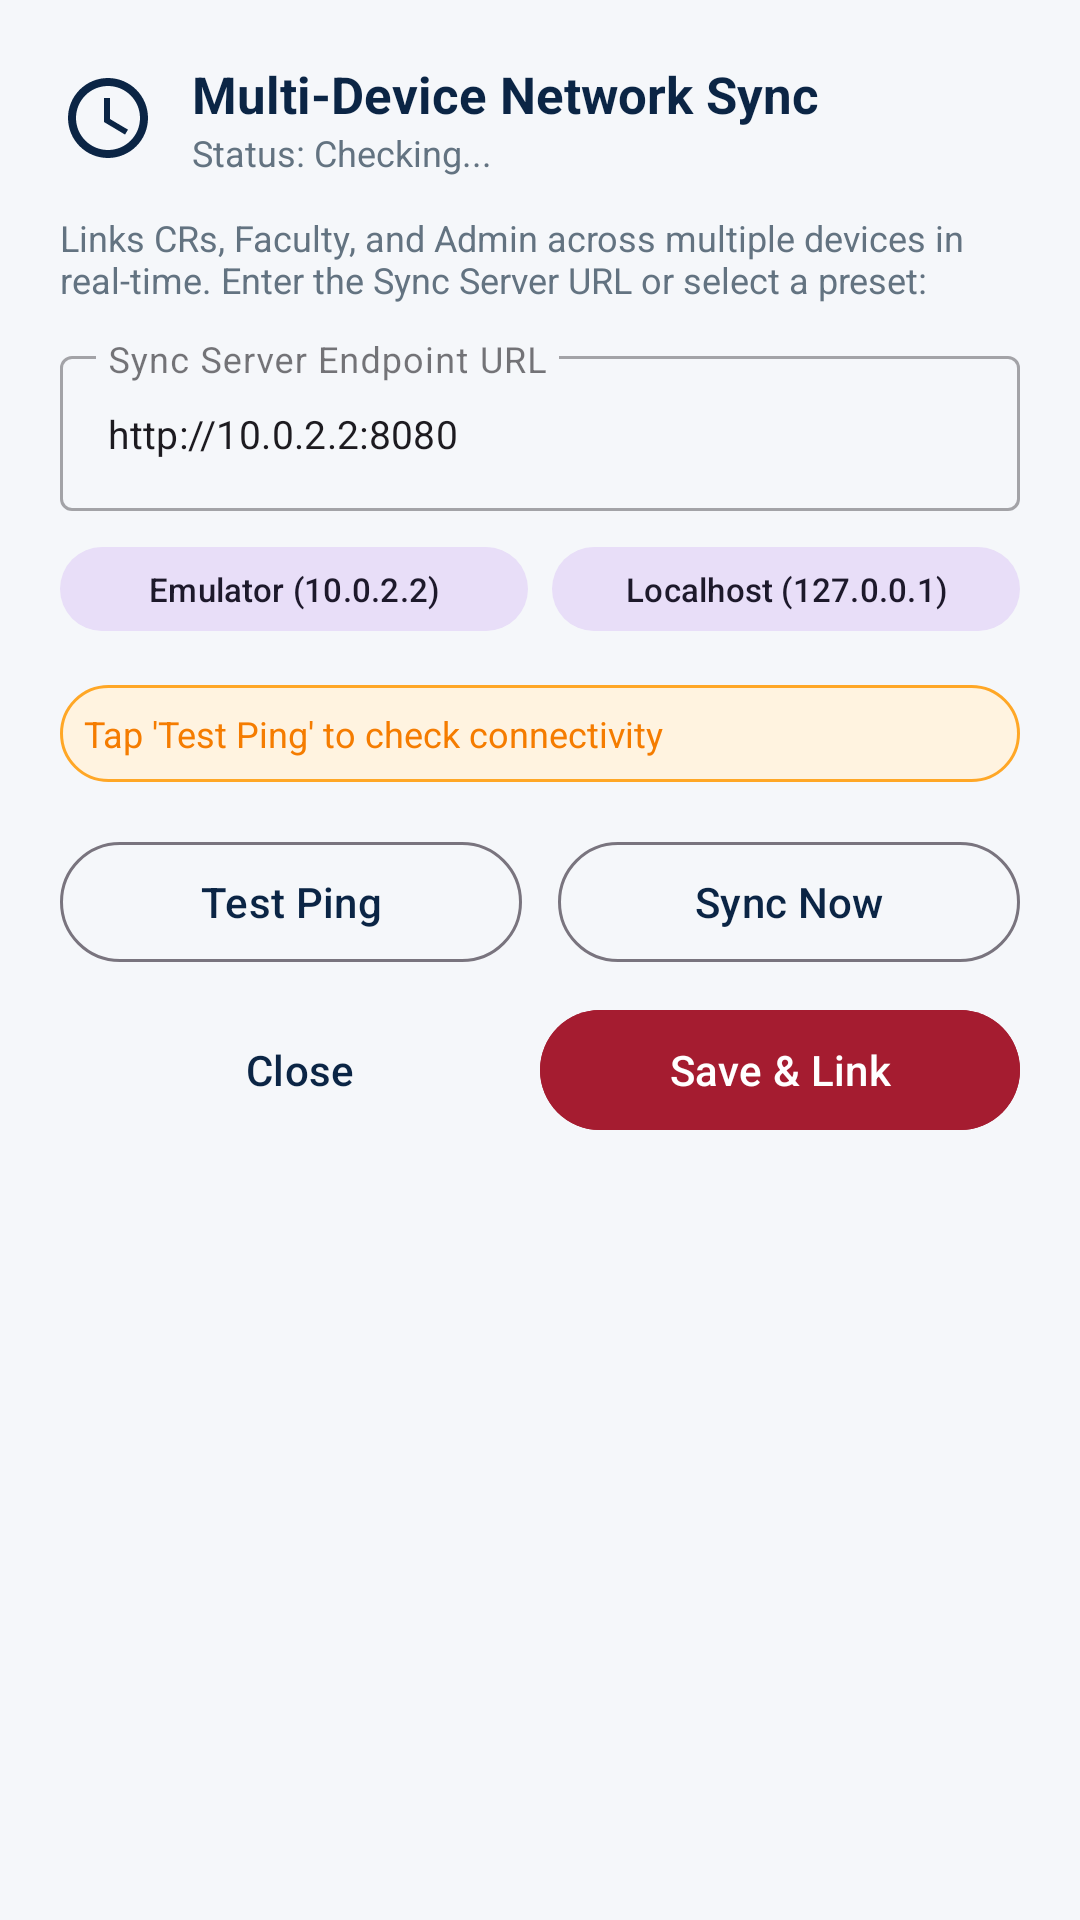

Icons on this 1080 x 1920 Android screen, each with its box as (x1, y1, x2, y2):
schedule: (68, 78, 148, 158)
